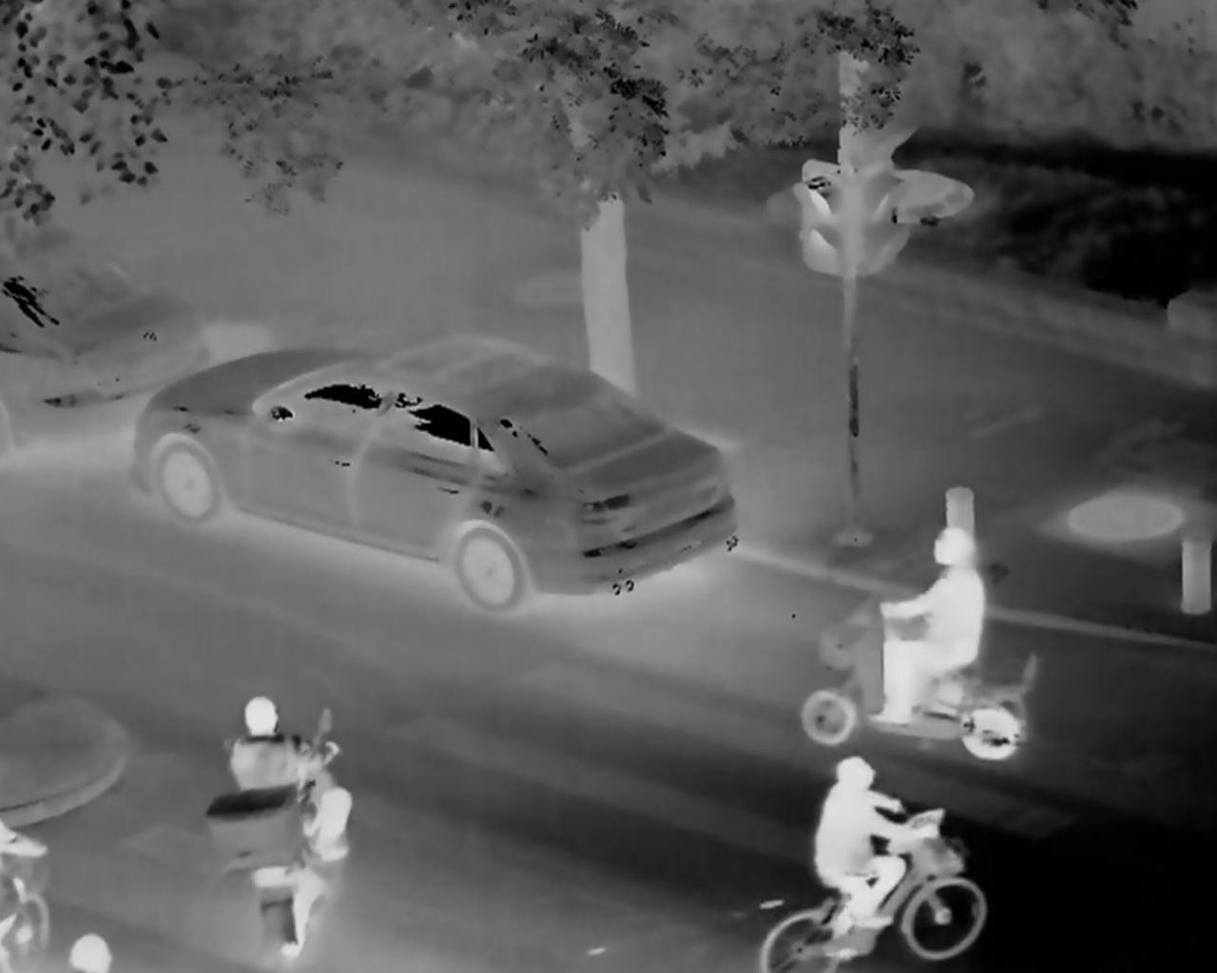person: (227, 698, 357, 930), (884, 528, 984, 732), (810, 755, 908, 944), (65, 927, 111, 973)
